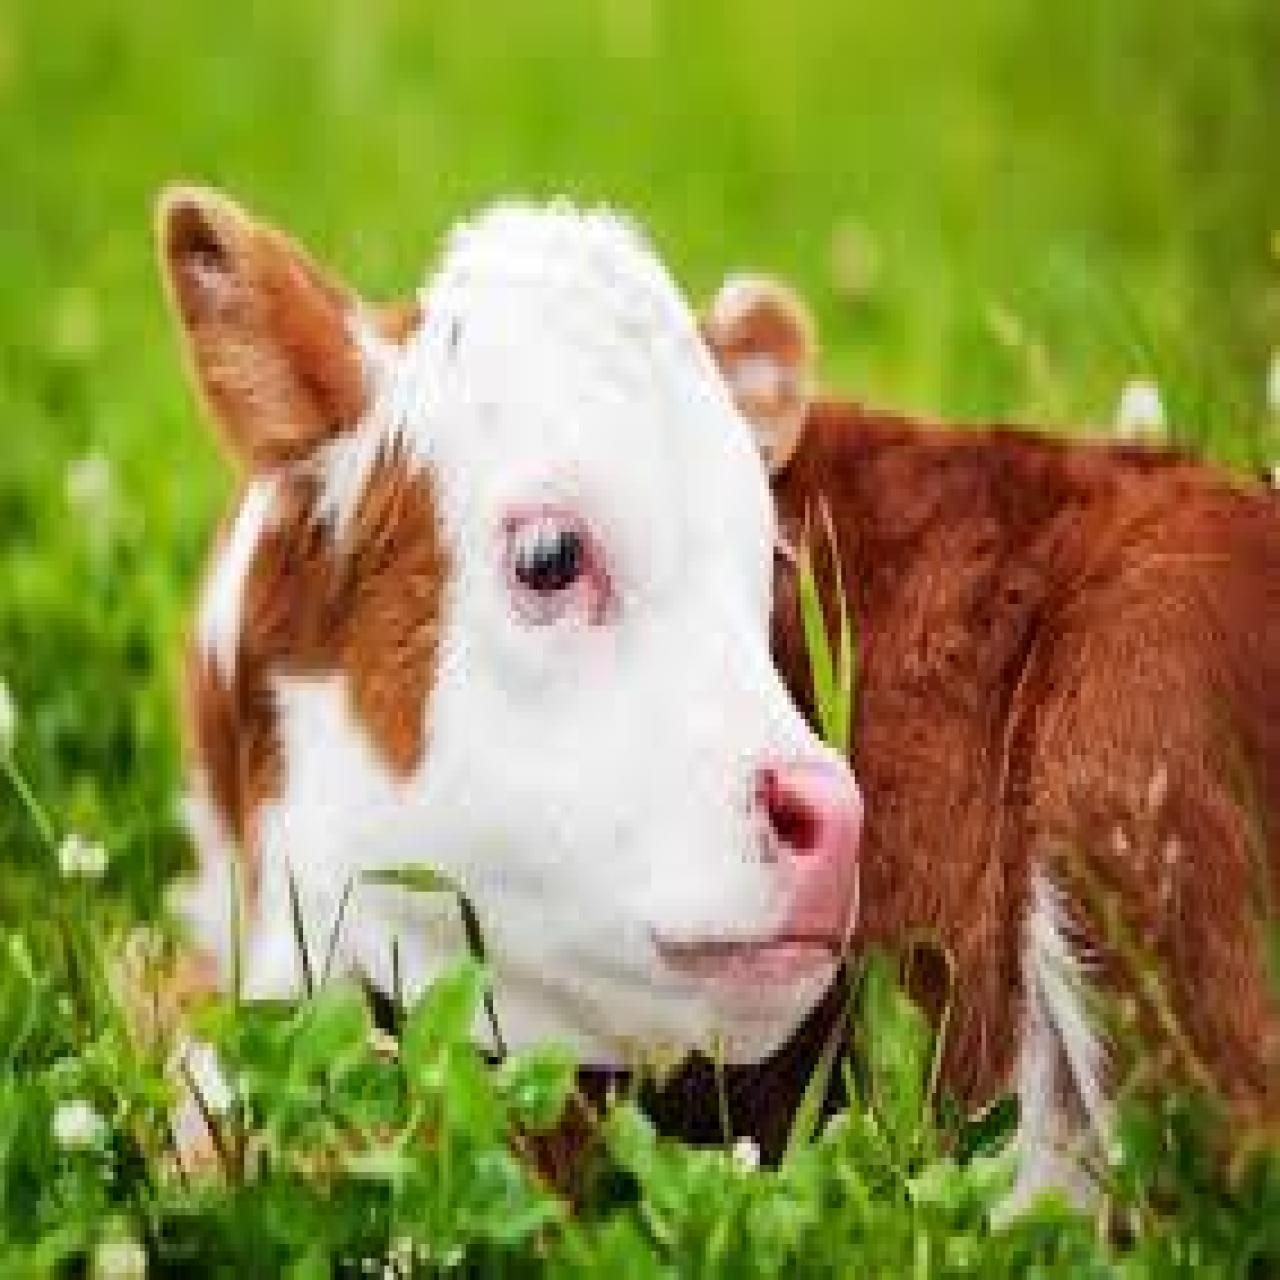cow: (154, 179, 1280, 1208)
